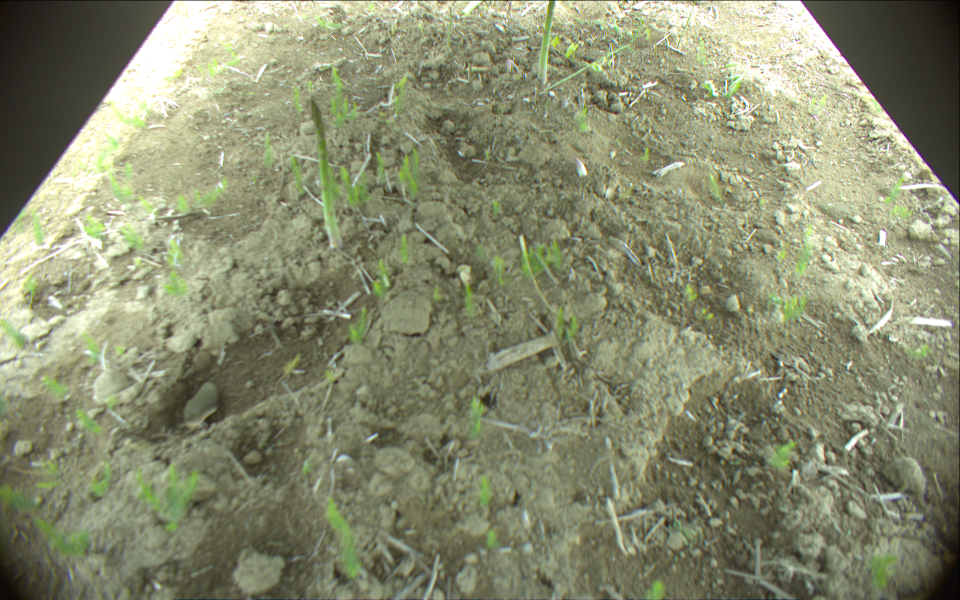aspa: (308, 96, 345, 250), (543, 43, 634, 95), (537, 1, 556, 84)
